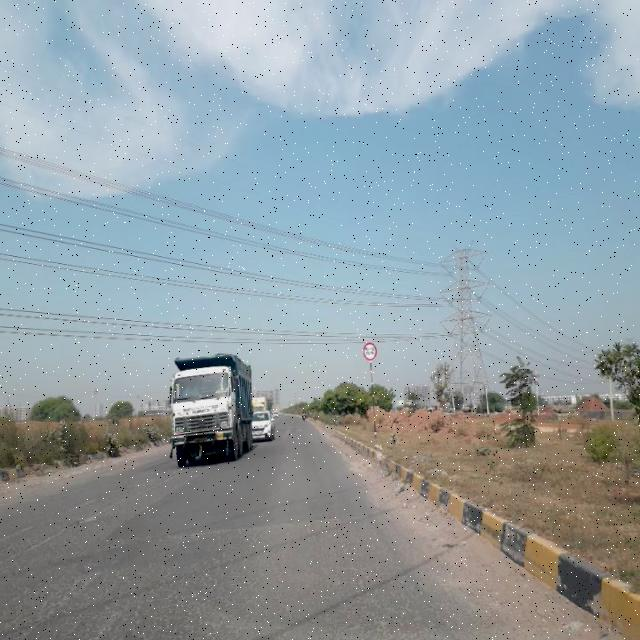D00: (1, 494, 130, 556)
D20: (1, 534, 441, 631)
D40: (71, 505, 102, 531)
